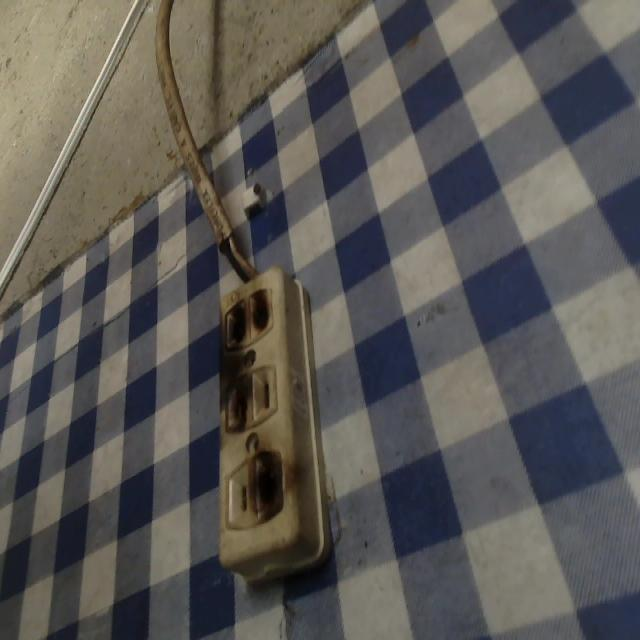-: (222, 283, 276, 345), (218, 366, 255, 438), (248, 453, 288, 519)
